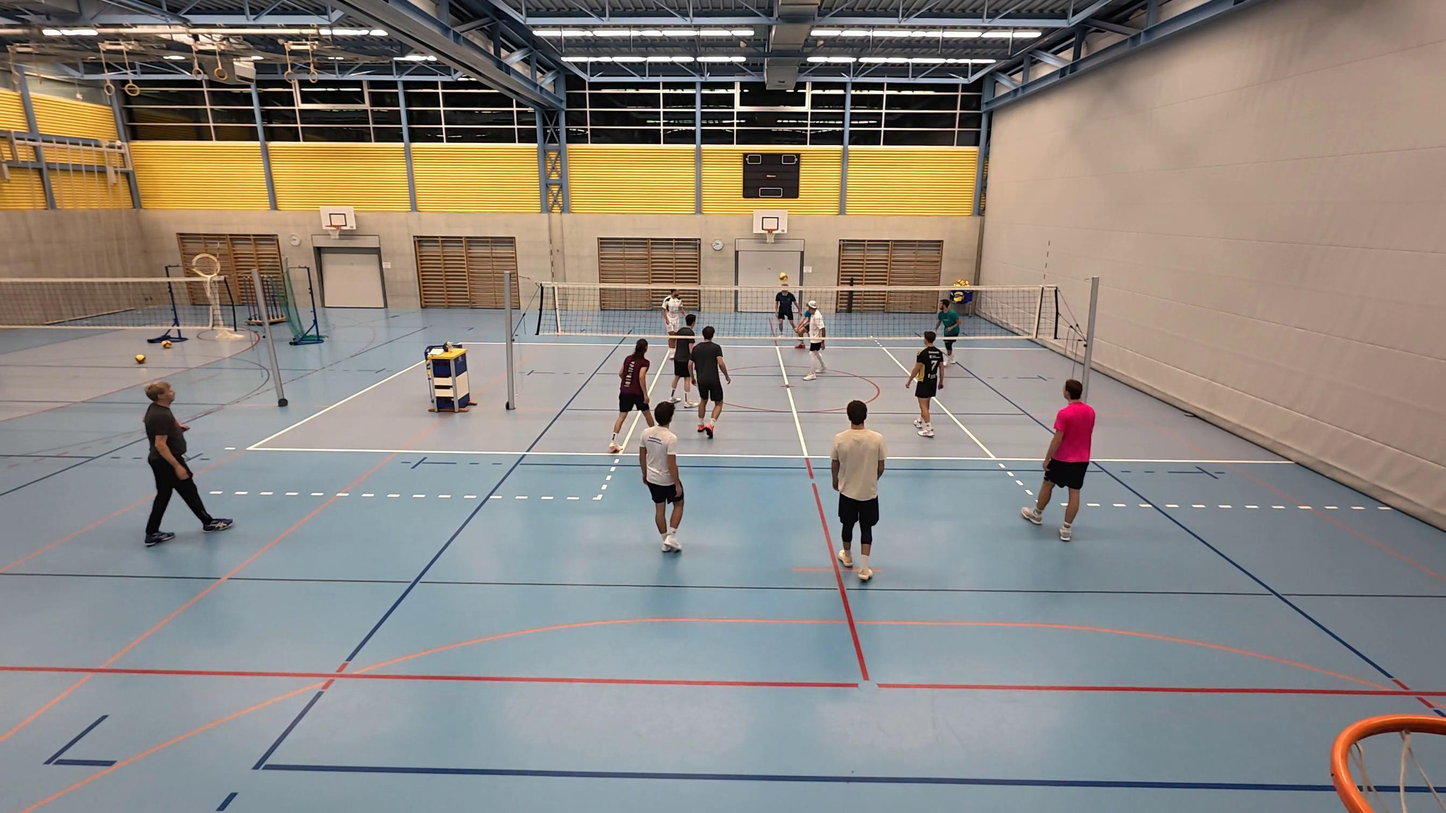Player: (1022, 379, 1093, 541), (830, 402, 884, 583), (636, 401, 685, 553), (609, 340, 655, 452), (691, 325, 732, 439), (908, 331, 944, 437), (795, 302, 827, 380), (661, 289, 687, 374), (937, 287, 961, 372), (771, 274, 798, 344)
ball: (953, 278, 968, 290), (778, 272, 790, 284)
